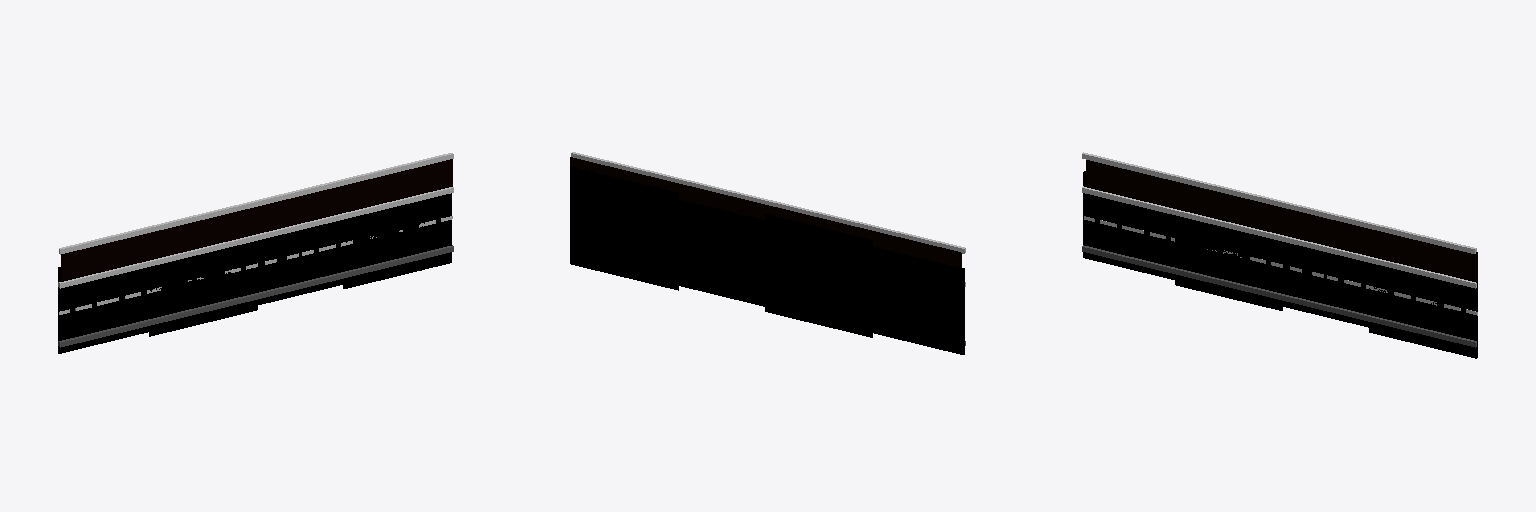
The model's file is road.obj.
3 renders of one model, left to right at view 1: azimuth 30°, elevation 25°; view 2: azimuth 150°, elevation 25°; view 3: azimuth 330°, elevation 25°, orthographic.
Parts seen in each view (by area): view 1: Cube.008_Cube.069, Cube.528_Cube.537, Cube.003_Cube.024, Cube.243_Cube.832, Cube.464_Cube.473, Cube.038_Cube.629, Cube.398_Cube.407, Cube.104_Cube.694, Cube.234_Cube.823, Cube.266_Cube.275, Cube.278_Cube.287; view 2: Cube.003_Cube.024, Cube.243_Cube.832, Cube.234_Cube.823, Cube.266_Cube.275, Cube.464_Cube.473, Cube.038_Cube.629, Cube.104_Cube.694, Cube.398_Cube.407, Cube.528_Cube.537, Cube.008_Cube.069; view 3: Cube.008_Cube.069, Cube.528_Cube.537, Cube.003_Cube.024, Cube.243_Cube.832, Cube.464_Cube.473, Cube.038_Cube.629, Cube.104_Cube.694, Cube.398_Cube.407, Cube.234_Cube.823, Cube.266_Cube.275, Cube.278_Cube.287.
Boxes of the visible parts, <box> form: Cube.008_Cube.069: <box>256,159,452,233</box>; Cube.528_Cube.537: <box>61,207,257,281</box>; Cube.003_Cube.024: <box>149,247,230,336</box>; Cube.243_Cube.832: <box>343,200,424,288</box>; Cube.464_Cube.473: <box>58,267,107,353</box>; Cube.038_Cube.629: <box>253,230,301,306</box>; Cube.398_Cube.407: <box>108,267,149,341</box>; Cube.104_Cube.694: <box>302,220,343,294</box>; Cube.234_Cube.823: <box>425,193,451,268</box>; Cube.266_Cube.275: <box>231,242,257,316</box>; Cube.278_Cube.287: <box>135,216,334,269</box>; Cube.003_Cube.024: <box>795,221,872,337</box>; Cube.243_Cube.832: <box>598,173,678,290</box>; Cube.234_Cube.823: <box>570,167,619,275</box>; Cube.266_Cube.275: <box>765,214,813,323</box>; Cube.464_Cube.473: <box>913,257,964,354</box>; Cube.038_Cube.629: <box>719,209,764,306</box>; Cube.104_Cube.694: <box>678,199,719,295</box>; Cube.398_Cube.407: <box>873,247,913,342</box>; Cube.528_Cube.537: <box>765,205,961,267</box>; Cube.008_Cube.069: <box>570,157,766,219</box>; Cube.008_Cube.069: <box>1281,207,1477,282</box>; Cube.528_Cube.537: <box>1086,160,1280,234</box>; Cube.003_Cube.024: <box>1175,215,1255,304</box>; Cube.243_Cube.832: <box>1369,263,1449,351</box>; Cube.464_Cube.473: <box>1083,171,1133,269</box>; Cube.038_Cube.629: <box>1278,241,1326,316</box>; Cube.104_Cube.694: <box>1327,253,1368,327</box>; Cube.398_Cube.407: <box>1133,205,1174,279</box>; Cube.234_Cube.823: <box>1450,282,1477,358</box>; Cube.266_Cube.275: <box>1256,235,1282,310</box>; Cube.278_Cube.287: <box>1156,206,1357,256</box>.
Bounding box in the file's own units: 313 × 83.94 × 3.66.